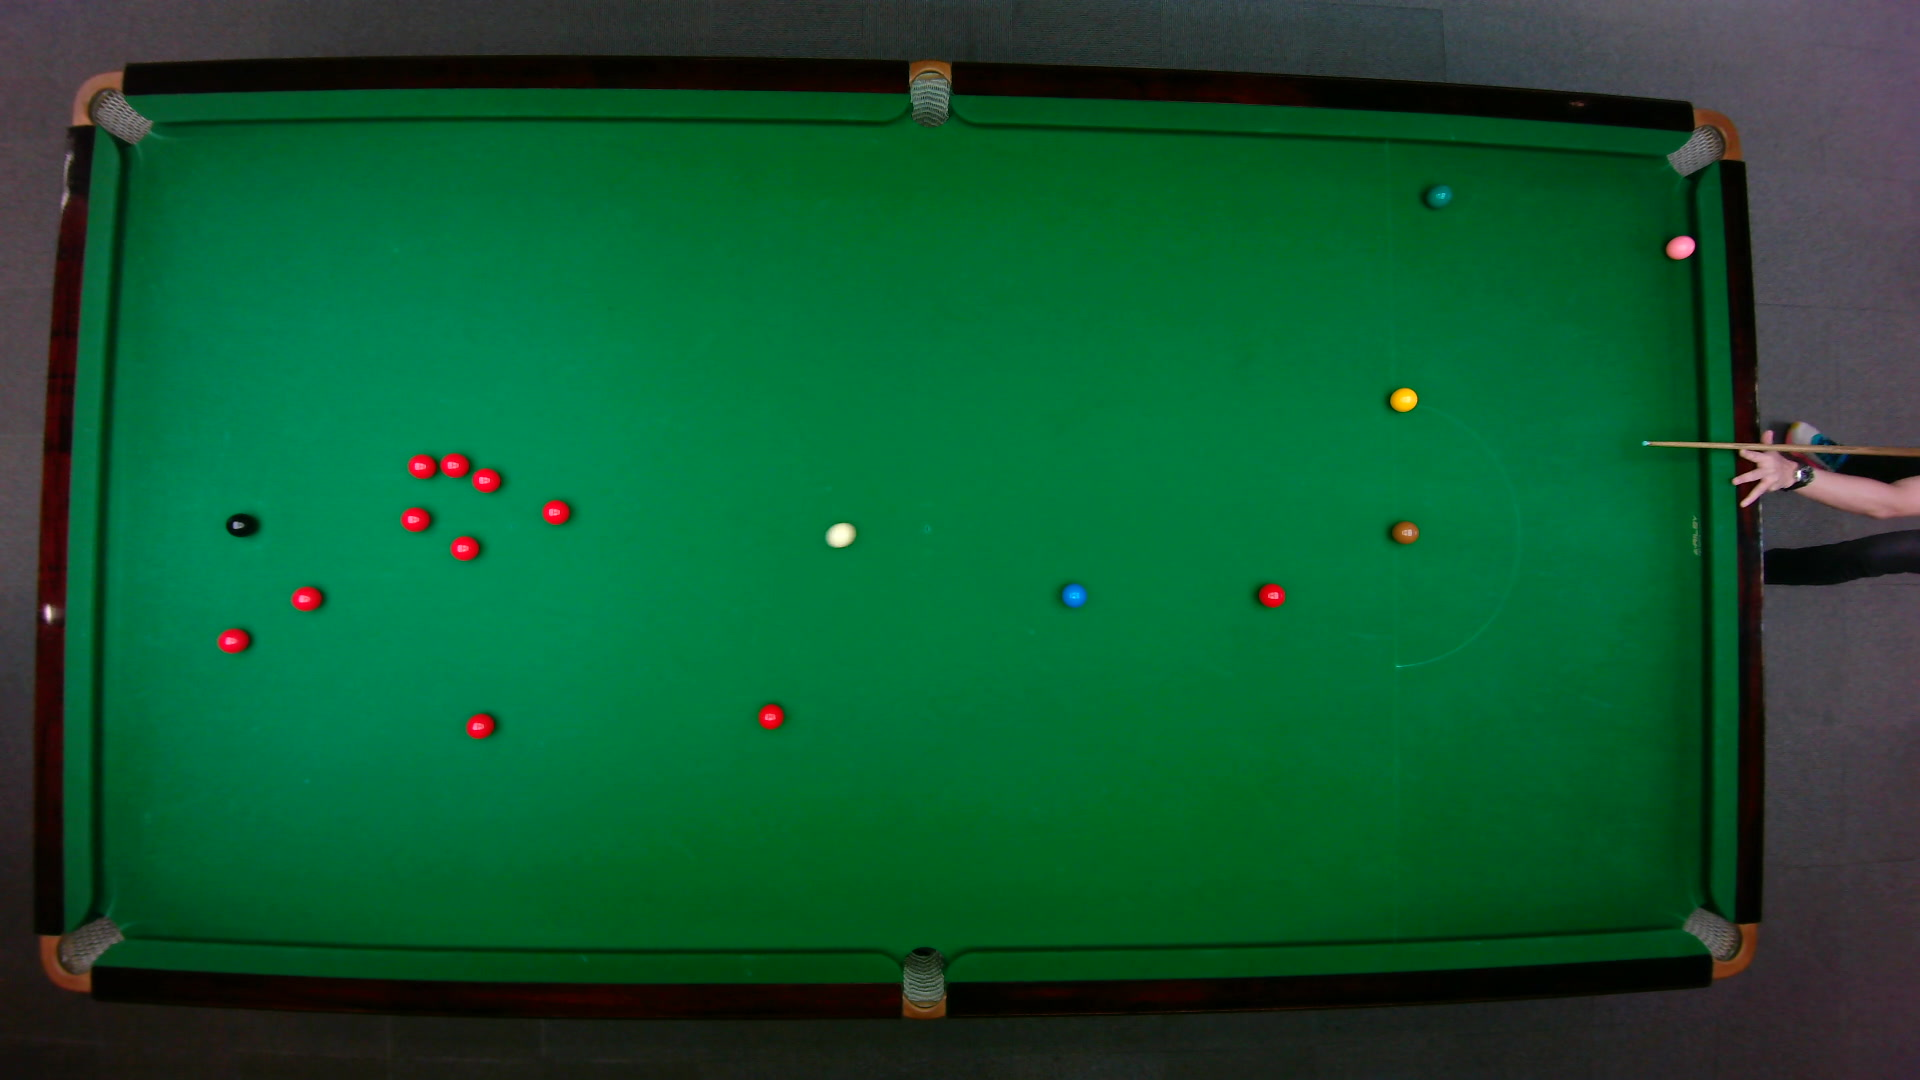bag: (37, 913, 125, 992), (69, 69, 153, 145), (1679, 905, 1758, 978), (1663, 107, 1741, 177), (901, 944, 944, 1021), (909, 57, 949, 128)
black: (224, 512, 256, 537)
blue: (1059, 582, 1088, 608)
brown: (1389, 520, 1419, 545)
cue: (1640, 436, 1920, 460)
green: (1423, 182, 1453, 208)
pink: (1663, 233, 1697, 260)
red: (214, 625, 251, 653), (289, 583, 323, 612), (469, 465, 502, 493), (463, 711, 496, 738), (398, 504, 430, 531), (448, 533, 480, 560), (756, 702, 785, 731), (439, 450, 469, 477), (405, 452, 436, 479), (541, 498, 570, 525), (1255, 582, 1286, 607)
white: (823, 520, 857, 549)
yellow: (1387, 385, 1418, 411)
zone: (1390, 398, 1520, 667)
